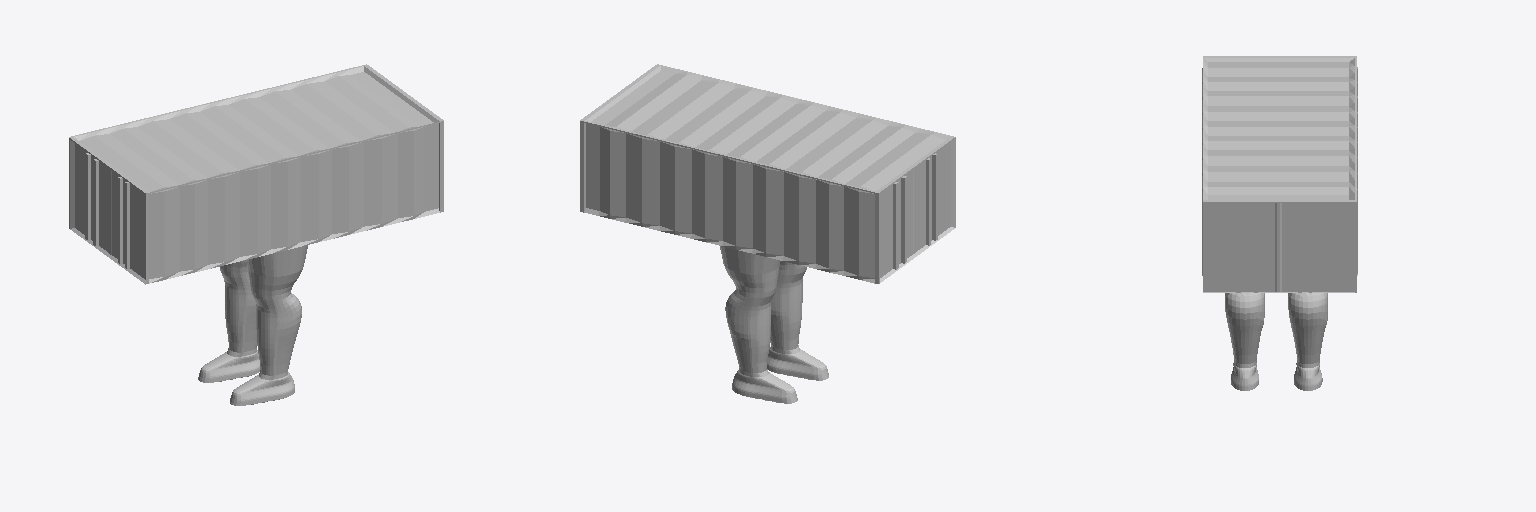
Rendered from container.obj.
The picture shows the model from 3 angles: view 1: azimuth 30°, elevation 25°; view 2: azimuth 150°, elevation 25°; view 3: azimuth 270°, elevation 25°; orthographic projection.
Parts seen in each view (by area): view 1: pCube8, pasted__pCylinder2; view 2: pCube8, pasted__pCylinder2; view 3: pCube8, pasted__pCylinder2.
Boxes of the visible parts, x1,y1,x2,y2 form: pCube8: [69, 64, 443, 284]; pasted__pCylinder2: [198, 245, 307, 405]; pCube8: [580, 64, 955, 283]; pasted__pCylinder2: [720, 246, 828, 403]; pCube8: [1202, 56, 1357, 292]; pasted__pCylinder2: [1225, 293, 1327, 390].
Bounding box in the file's own units: 7.15 × 5.81 × 3.21.